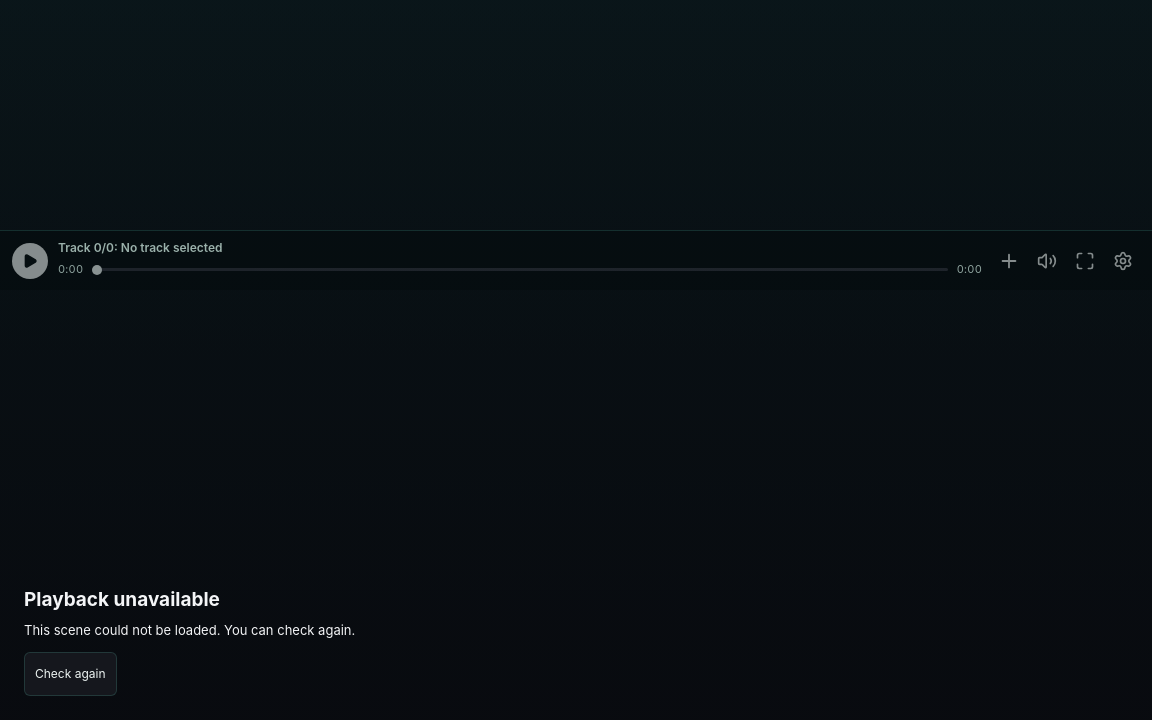
MagePlayer live availability › catches a source refresh rejection and offers a deliberate retry without rendering defaults
Expected: the text "This scene could not be loaded. You can check again." is shown, [24, 620, 355, 640]
Click the button "Check again". click: point(70, 674)
box: [24, 652, 116, 696]
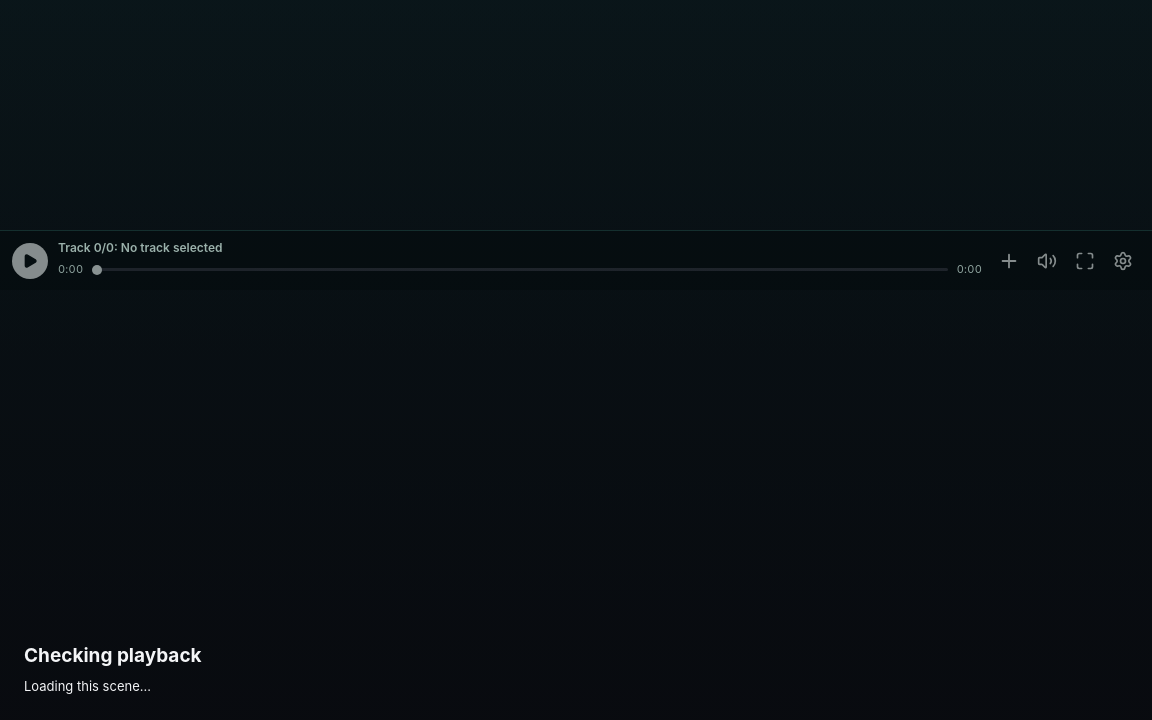
Expected: the text "Loading this scene…" is shown, [24, 678, 151, 694]
